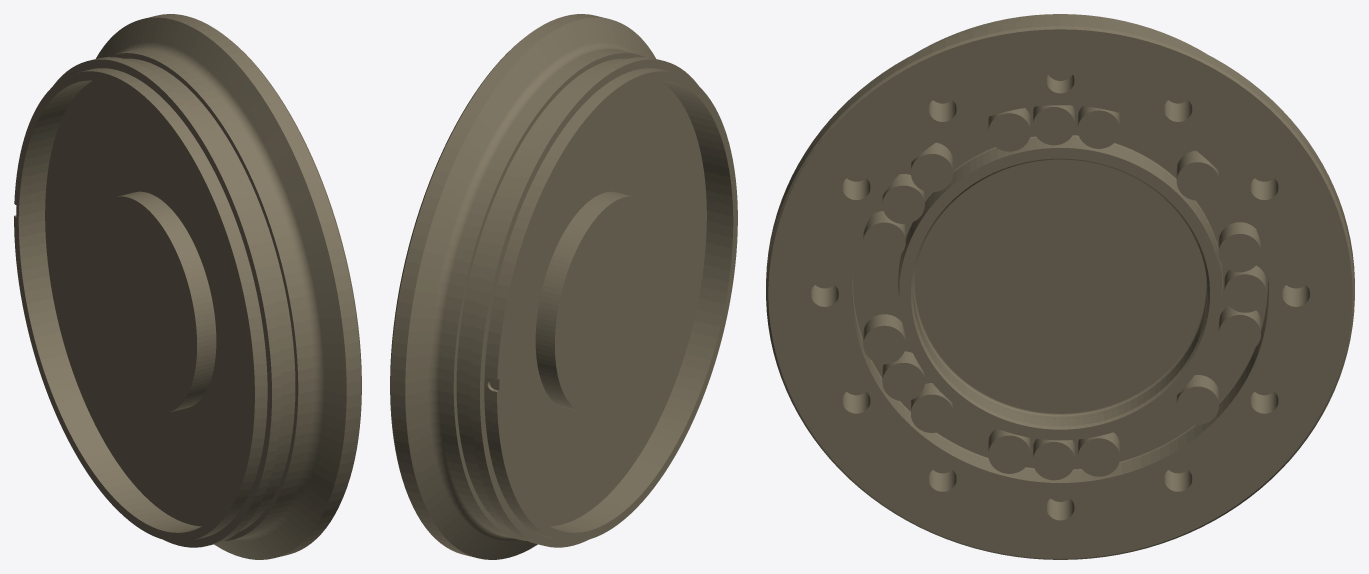
3 views of the same model, side by side, from view 1: azimuth 30°, elevation 25°; view 2: azimuth 150°, elevation 25°; view 3: azimuth 270°, elevation 25° (orthographic). The views are drawn at different scales.
Visible parts, largest first — view 1: node0; view 2: node0; view 3: node0.
Boxes of the visible parts, bbox=[...] form: node0: bbox=[14, 14, 361, 559]; node0: bbox=[390, 14, 737, 559]; node0: bbox=[766, 14, 1354, 559].
Size of the model in its own units: 0.0467 by 0.2499 by 0.25.
